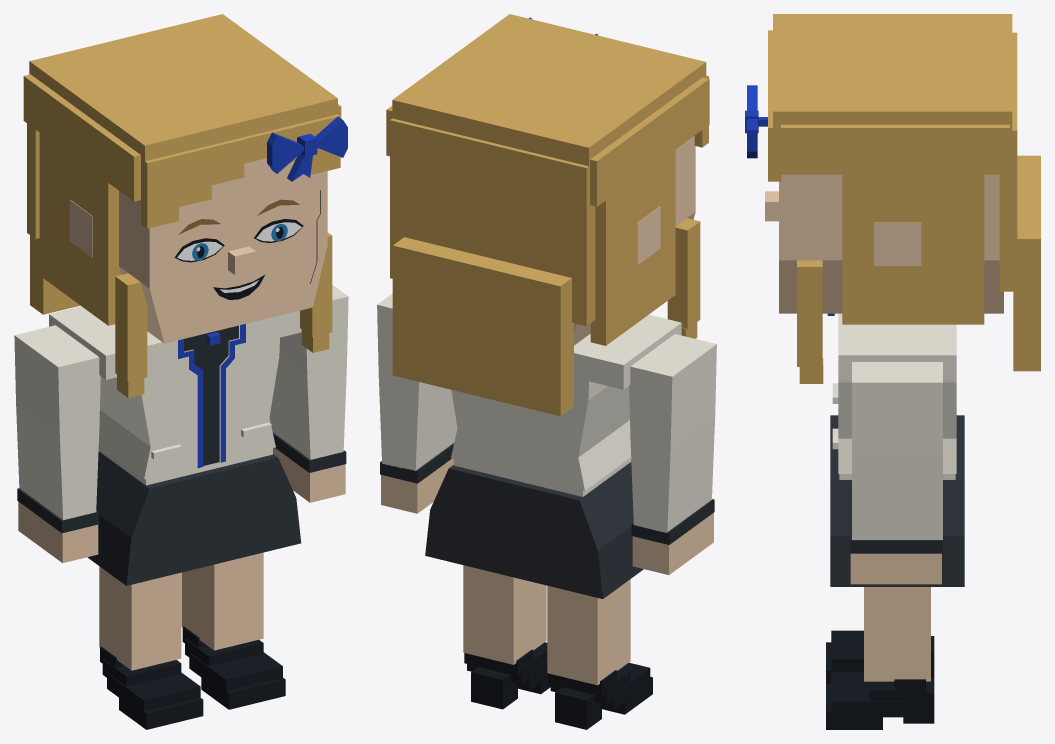
Rendered from reception_a.glb.
3 views of the same model, side by side, from view 1: azimuth 30°, elevation 25°; view 2: azimuth 150°, elevation 25°; view 3: azimuth 270°, elevation 25° (orthographic). The views are drawn at different scales.
Parts seen in each view (by area): view 1: char_hair_visual, char_torso_visual, char_head_visual, char_arm_negx_visual, char_leg_negx_visual, char_leg_posx_visual, char_arm_posx_visual, char_bow_visual, char_hand_negx_visual, char_hand_posx_visual, char_eye_posx_visual, char_eye_negx_visual (+1 smaller); view 2: char_hair_visual, char_torso_visual, char_arm_negx_visual, char_leg_negx_visual, char_leg_posx_visual, char_arm_posx_visual, char_head_visual, char_hand_negx_visual, char_hand_posx_visual; view 3: char_hair_visual, char_arm_posx_visual, char_torso_visual, char_head_visual, char_leg_posx_visual, char_hand_posx_visual, char_leg_negx_visual, char_bow_visual.
Part boxes in pixels (x1,y1,x2,y2): char_hair_visual: (23, 14, 341, 397); char_torso_visual: (49, 306, 301, 585); char_head_visual: (69, 158, 327, 343); char_arm_negx_visual: (14, 325, 100, 533); char_leg_negx_visual: (99, 566, 203, 729); char_leg_posx_visual: (181, 552, 285, 709); char_arm_posx_visual: (269, 285, 348, 472); char_bow_visual: (267, 116, 347, 181); char_hand_negx_visual: (18, 501, 98, 563); char_hand_posx_visual: (273, 447, 345, 502); char_eye_posx_visual: (254, 219, 303, 242); char_eye_negx_visual: (174, 238, 224, 262); char_hair_visual: (386, 14, 709, 416); char_torso_visual: (425, 314, 681, 598); char_arm_negx_visual: (629, 334, 716, 544); char_leg_negx_visual: (547, 579, 652, 729); char_leg_posx_visual: (463, 565, 550, 709); char_arm_posx_visual: (377, 293, 457, 483); char_head_visual: (574, 136, 695, 345); char_hand_negx_visual: (632, 513, 713, 574); char_hand_posx_visual: (381, 458, 453, 513); char_hair_visual: (768, 14, 1040, 383); char_arm_posx_visual: (850, 362, 942, 553); char_torso_visual: (827, 313, 964, 586); char_head_visual: (765, 174, 1003, 313); char_leg_posx_visual: (826, 587, 934, 729); char_hand_posx_visual: (850, 553, 941, 584); char_leg_negx_visual: (826, 630, 934, 683); char_bow_visual: (745, 85, 767, 158).
Size of the model in its own units: 0.88 by 1.77 by 0.749.
